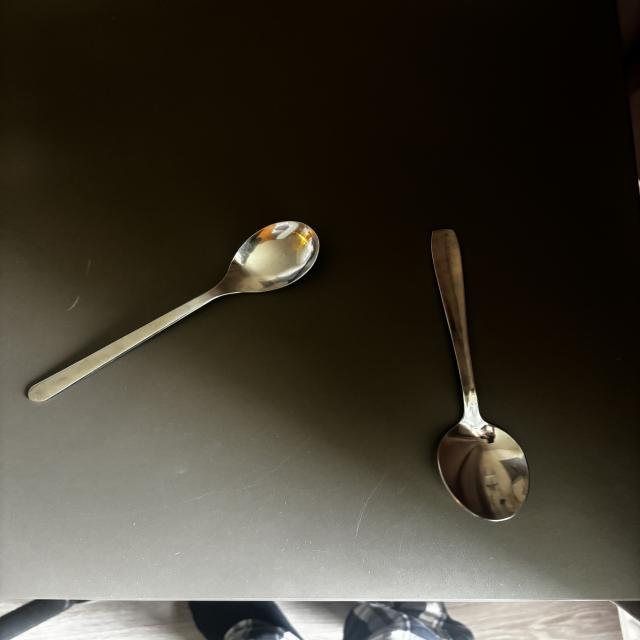spoon: (24, 222, 321, 406), (429, 229, 531, 524)
